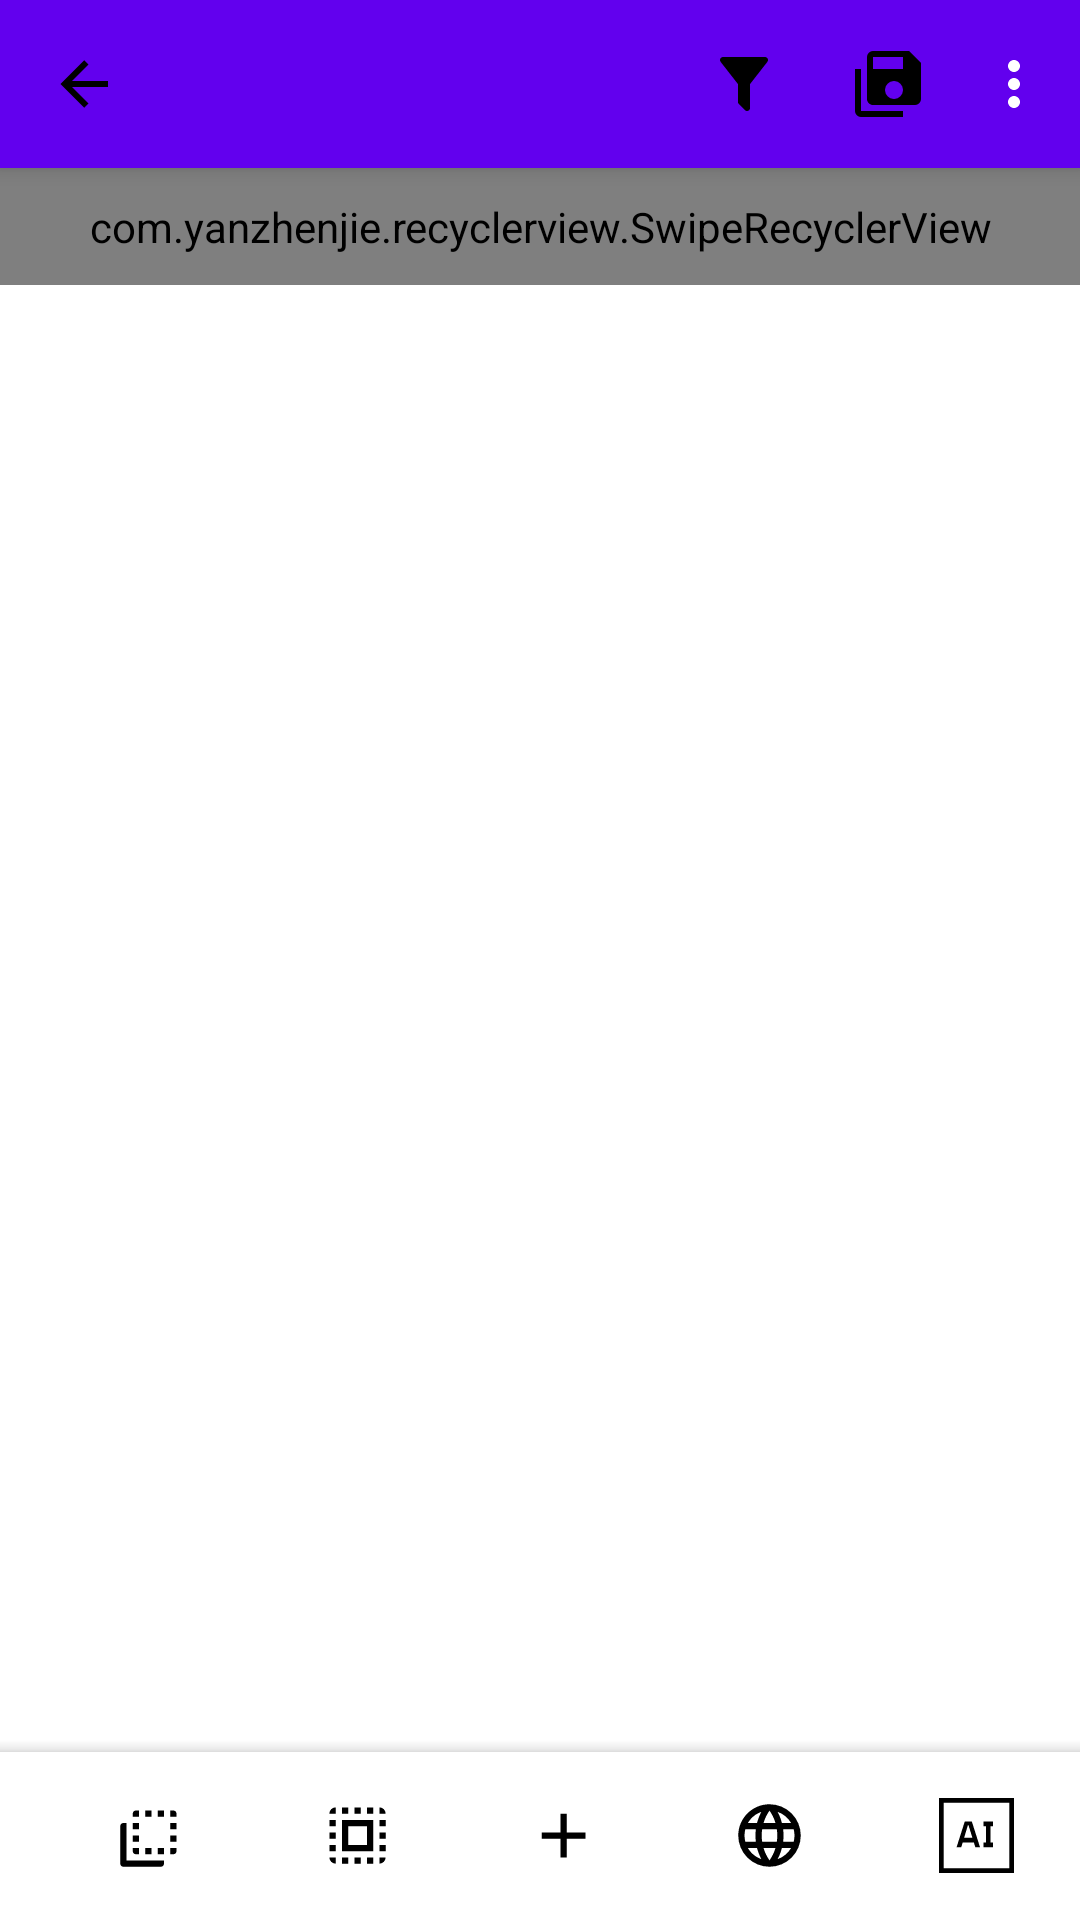

Screen size 1080x1920. Icon name, then its center in pixels as point (x, y):
add: point (563, 1835)
inverse selection: point (148, 1838)
select all: point (357, 1835)
web: point (769, 1835)
web ai: point (976, 1835)
